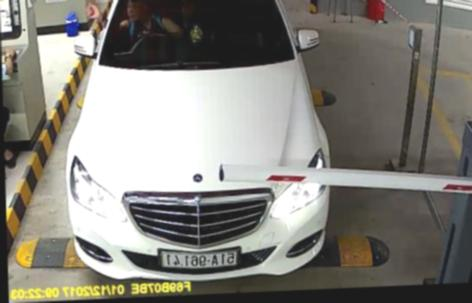License_Plate: (158, 246, 242, 270)
